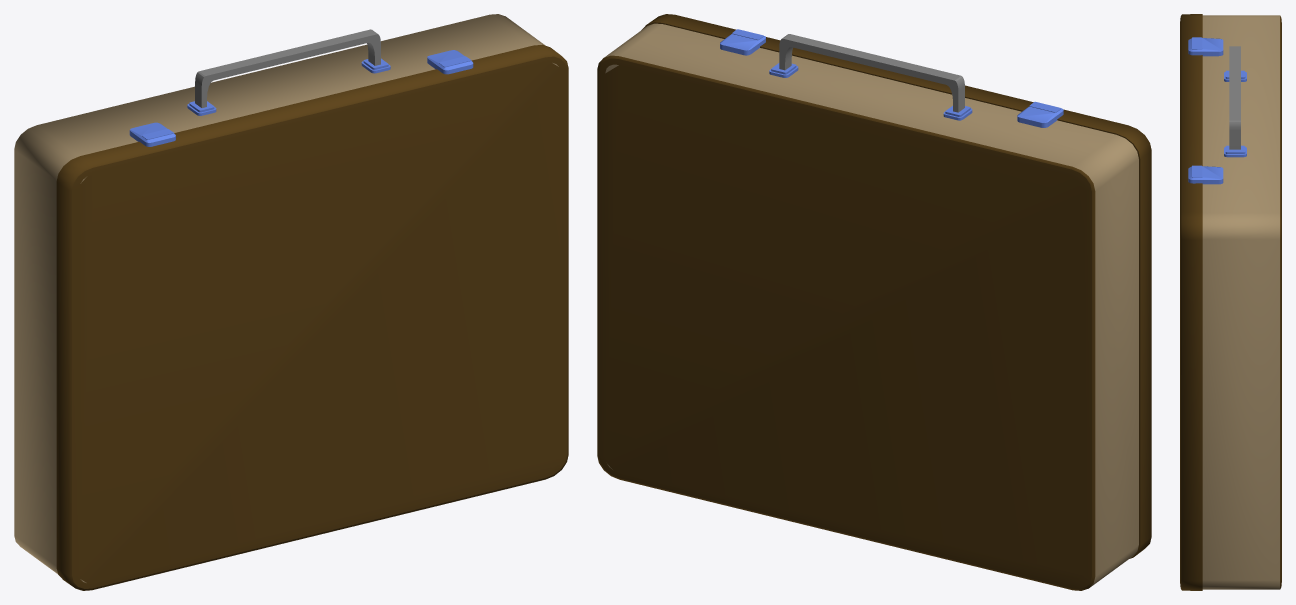
The model's file is Suitcase.fbx.
The picture shows the model from 3 angles, left to right: view 1: azimuth 30°, elevation 25°; view 2: azimuth 150°, elevation 25°; view 3: azimuth 270°, elevation 25°; orthographic projection. The views are drawn at different scales.
Parts seen in each view (by area): view 1: Suitcase; view 2: Suitcase; view 3: Suitcase.
Part boxes in pixels (x1=…): Suitcase: x1=14, y1=14, x2=568, y2=590; Suitcase: x1=597, y1=14, x2=1151, y2=590; Suitcase: x1=1180, y1=14, x2=1281, y2=590.
Bounding box in the file's own units: 8.04 × 7.07 × 1.6.
